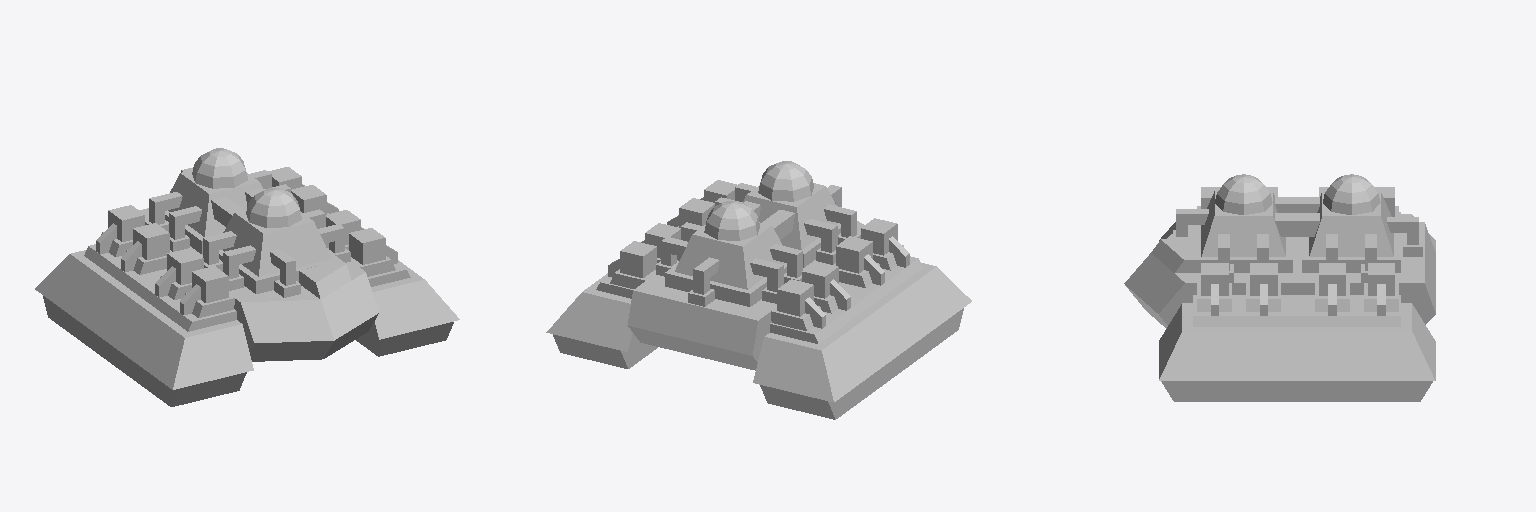
Rendered from rumad_mefus.obj.
3 views of the same model, side by side, from view 1: azimuth 30°, elevation 25°; view 2: azimuth 150°, elevation 25°; view 3: azimuth 270°, elevation 25° (orthographic).
Parts seen in each view (by area): view 1: Cube16_copy72, cube25, Cube16_sep70, cube36_copy39, Cube16_copy71, Cube16_extract95, cube36_extract37, sphere89_copy91, sphere89_cut90, Cube16_cut23, cube25_extract104, Cube16_extract97 (+15 smaller); view 2: Cube16_copy72, cube25, Cube16_sep70, cube36_extract37, Cube16_copy71, Cube16_extract95, cube36_copy39, sphere89_cut90, sphere89_copy91, Cube16_cut23, cube36, Cube16_extract99 (+15 smaller); view 3: Cube16_sep70, cube25, Cube16_cut23, Cube16_extract94, cube36_copy39, cube36_extract37, sphere89_cut90, sphere89_copy91, cube36_copy38, cube25_extract104, cube36, cube36_copy42 (+8 smaller).
Part boxes in pixels (x1,y1,x2,y2): Cube16_copy72: (35,250,253,389); cube25: (139,208,378,361); Cube16_sep70: (369,260,459,339); cube36_copy39: (223,209,331,276); Cube16_copy71: (43,245,348,406); Cube16_extract95: (84,244,236,331); cube36_extract37: (168,170,263,236); sphere89_copy91: (192,148,247,188); sphere89_cut90: (246,188,301,227); Cube16_cut23: (356,322,453,356); cube25_extract104: (299,260,351,298); Cube16_extract97: (349,228,385,264); Cube16_copy72: (610,262,971,402); cube25: (627,221,863,370); Cube16_sep70: (546,273,639,351); cube36_extract37: (675,222,783,289); Cube16_copy71: (678,226,963,419); Cube16_extract95: (770,256,922,343); cube36_copy39: (743,183,837,249); sphere89_cut90: (758,161,813,201); sphere89_copy91: (704,201,759,240); Cube16_cut23: (553,334,657,368); cube36: (665,263,786,306); Cube16_extract99: (620,241,656,277); Cube16_sep70: (1159,303,1435,380); cube25: (1124,222,1435,328); Cube16_cut23: (1161,381,1432,401); Cube16_extract94: (1193,295,1400,326); cube36_copy39: (1201,191,1285,256); cube36_extract37: (1309,191,1393,256); sphere89_cut90: (1215,174,1272,214); sphere89_copy91: (1323,174,1380,214); cube36_copy38: (1194,225,1292,272); cube25_extract104: (1151,239,1193,272); cube36: (1302,233,1400,272); cube36_copy42: (1275,213,1319,236).
Bounding box in the file's own units: 6.78 × 3.56 × 6.36.